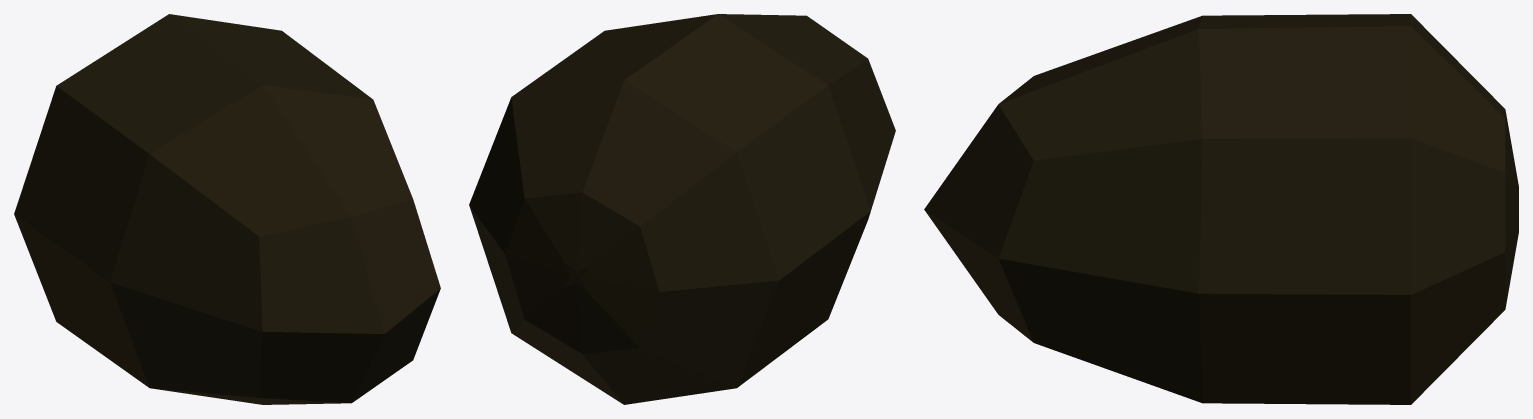
File: poop.fbx
3 views of the same model, side by side, from view 1: azimuth 30°, elevation 25°; view 2: azimuth 150°, elevation 25°; view 3: azimuth 270°, elevation 25° (orthographic). The views are drawn at different scales.
Parts seen in each view (by area): view 1: Cube; view 2: Cube; view 3: Cube.
Part boxes in pixels (x1,y1,x2,y2): Cube: [14, 14, 440, 404]; Cube: [469, 14, 895, 404]; Cube: [924, 14, 1518, 404].
Size of the model in its own units: 125 by 125 by 184.
